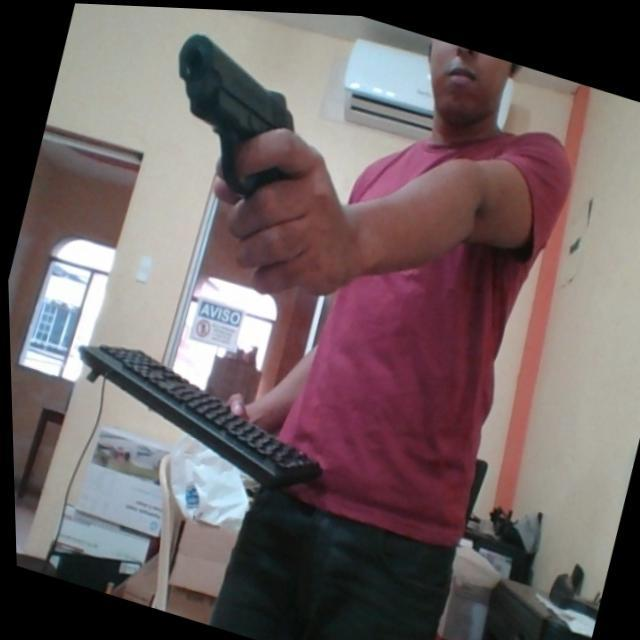weapon: (144, 21, 318, 210)
